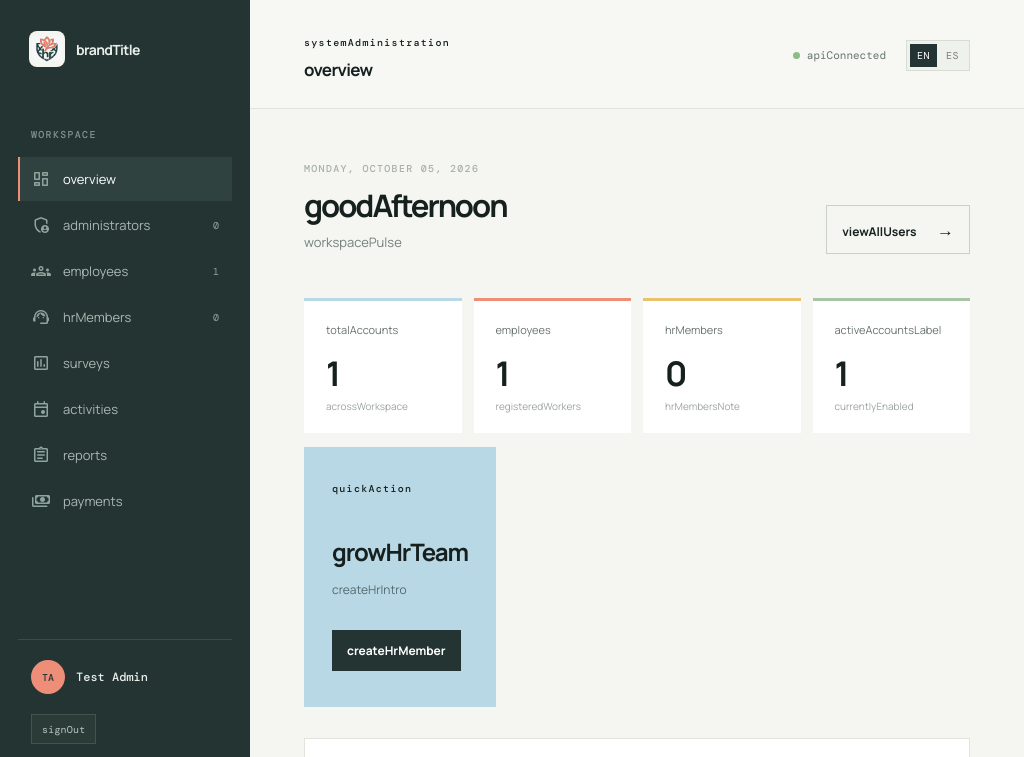
it: [integration] src/app/App.tsx › logout resets page before subsequent login
The image size is (1024, 757).
Check: the text "apiConnected" is shown, box [793,48,886,62]
Click the button "employees 1" at (125, 271), box [18,249,232,293]
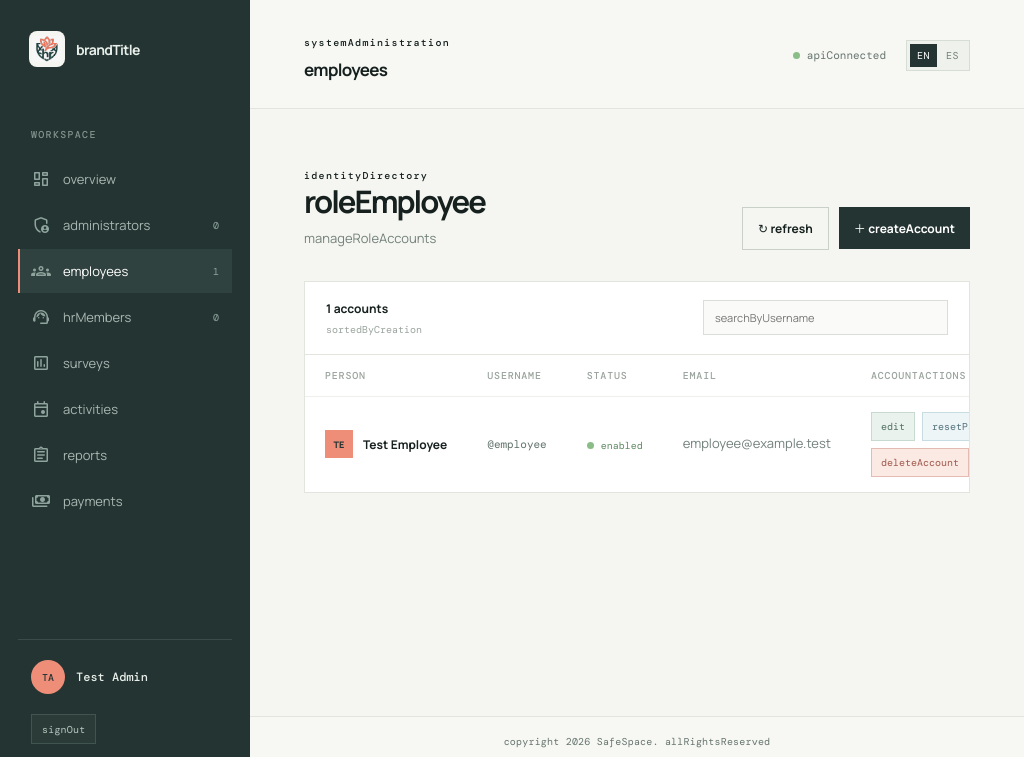
Check: the heading "employees" is shown, box [304,58,387,81]
Click the button "signOut" at (64, 729), box [31,714,96,744]
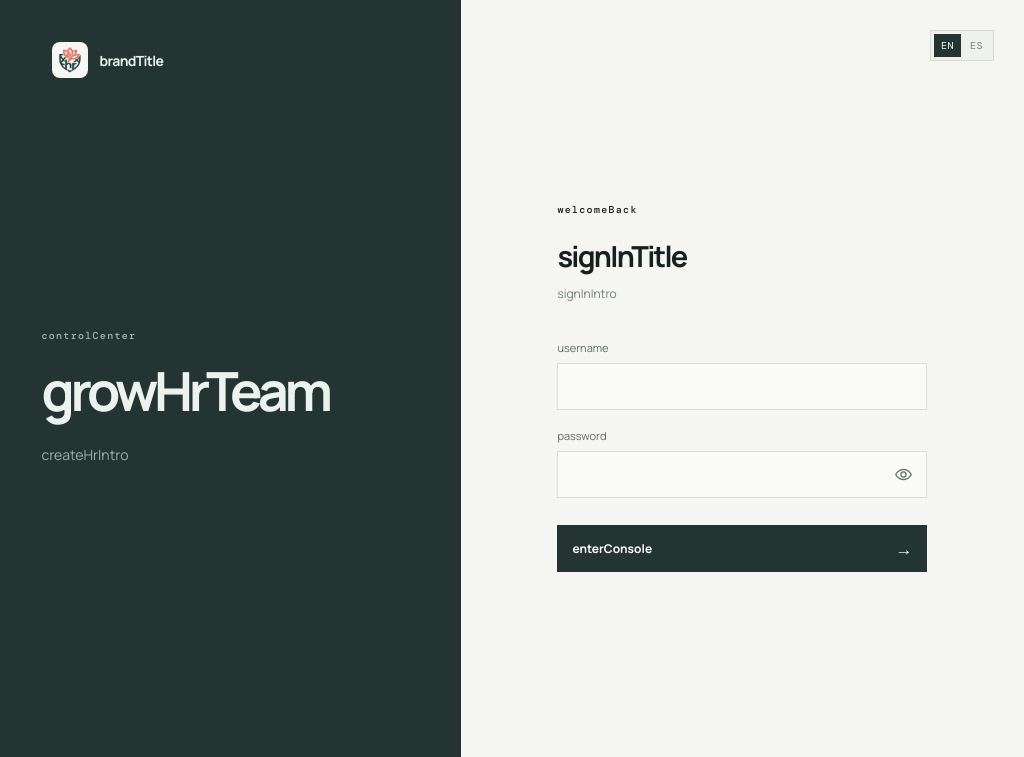
Type "admin" into the field labelled "username" at (742, 386), box [557,363,927,410]
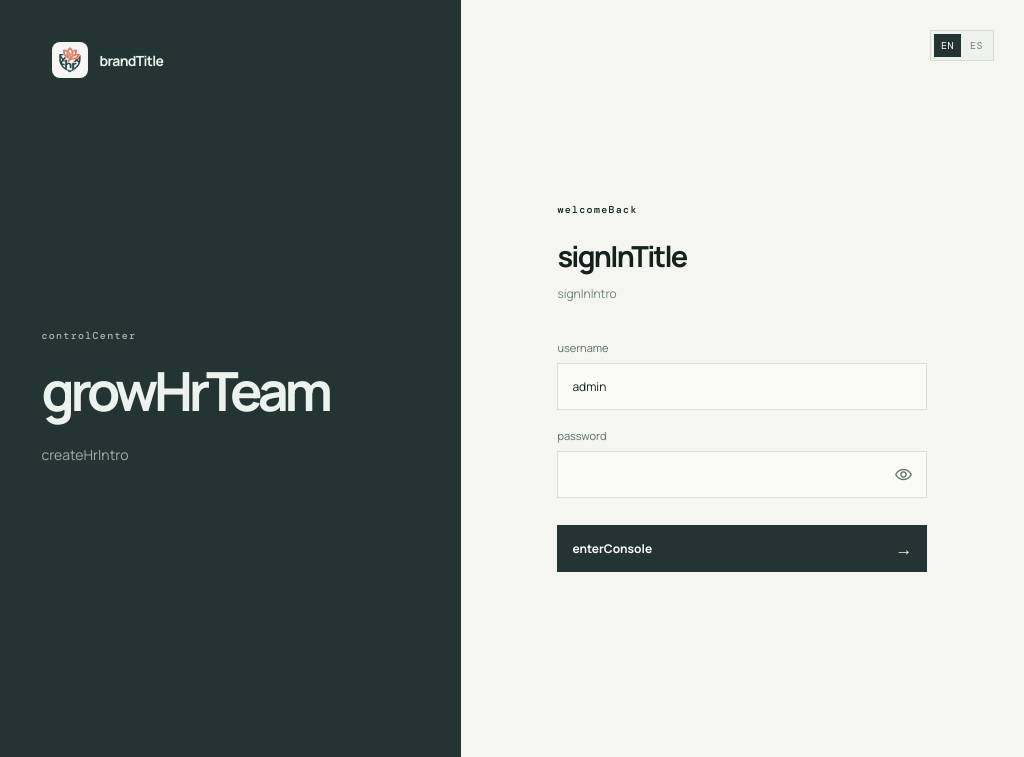
Type "Password123" into the password field labelled "password" at (742, 474), box [557,451,927,498]
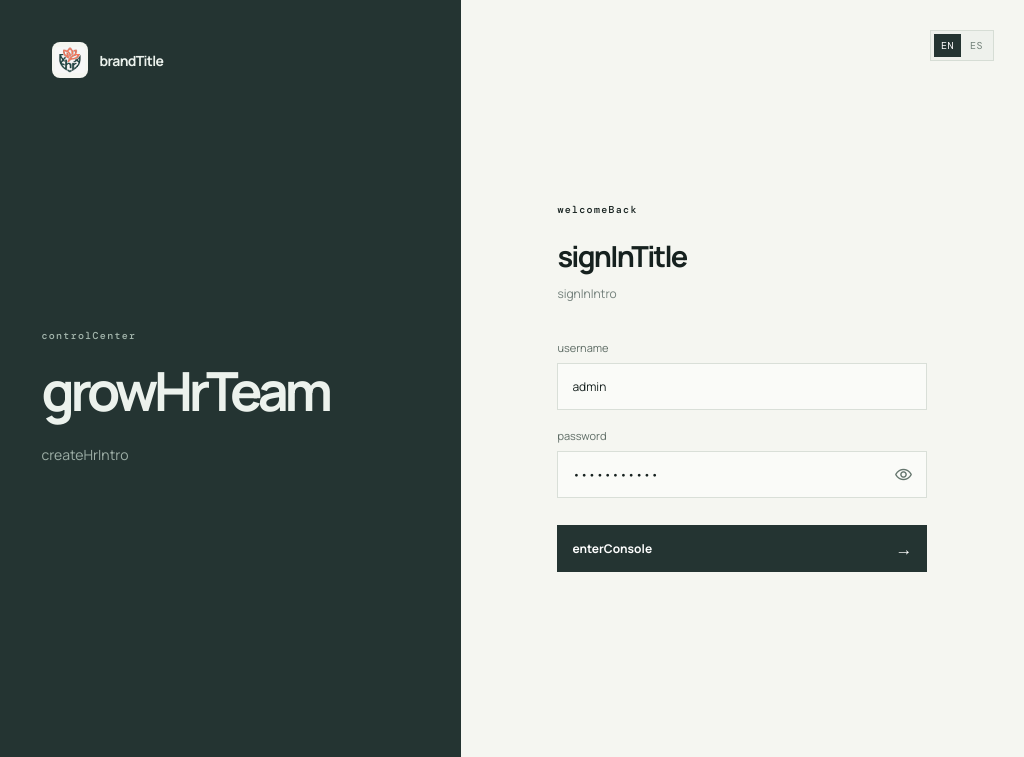
Submit the form, box [557,196,927,572]
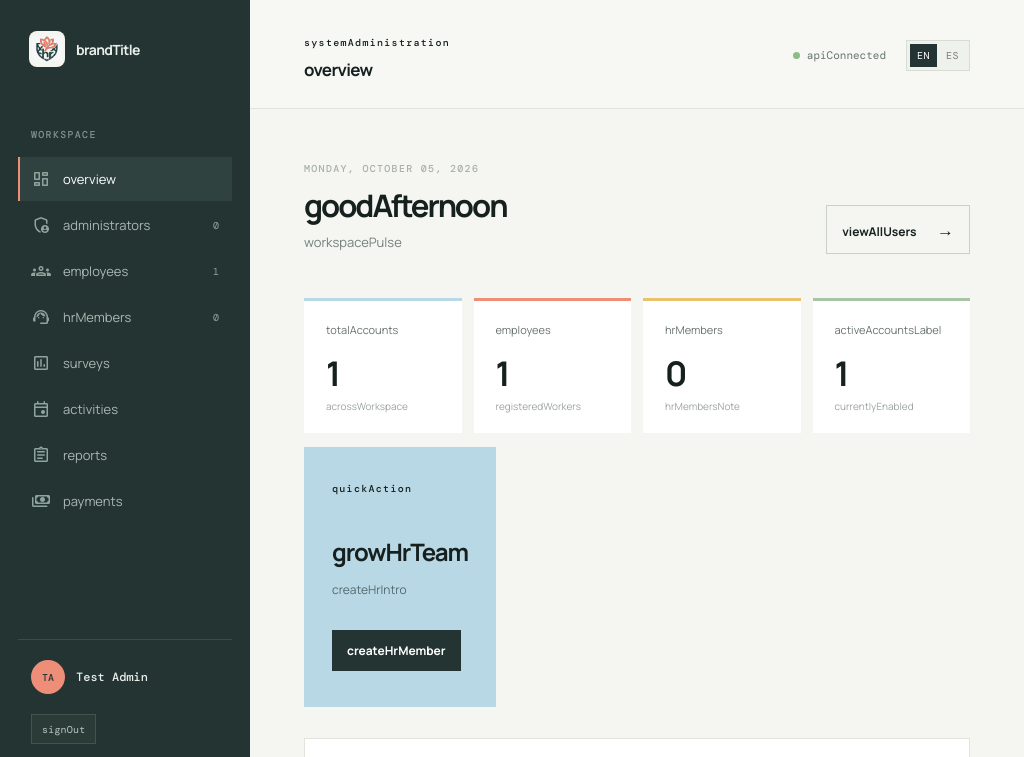
Check: the heading "overview" is shown, box [304,58,372,81]
